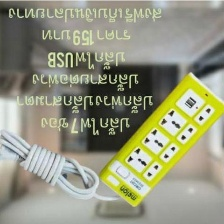three_eye_plug: (95, 65, 224, 210)
